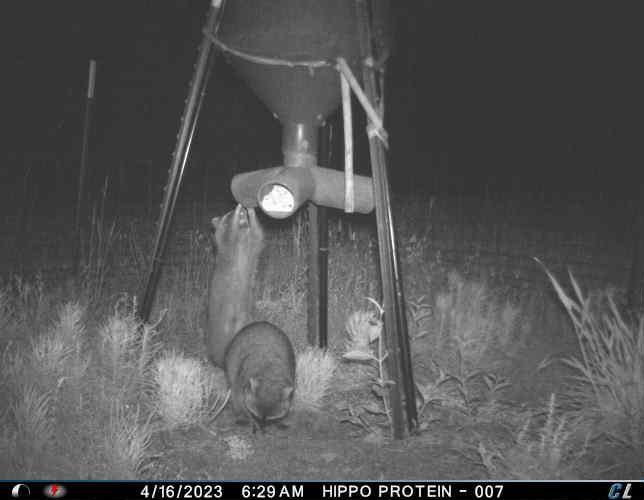Raccoon: (210, 203, 268, 374), (216, 319, 300, 431)
